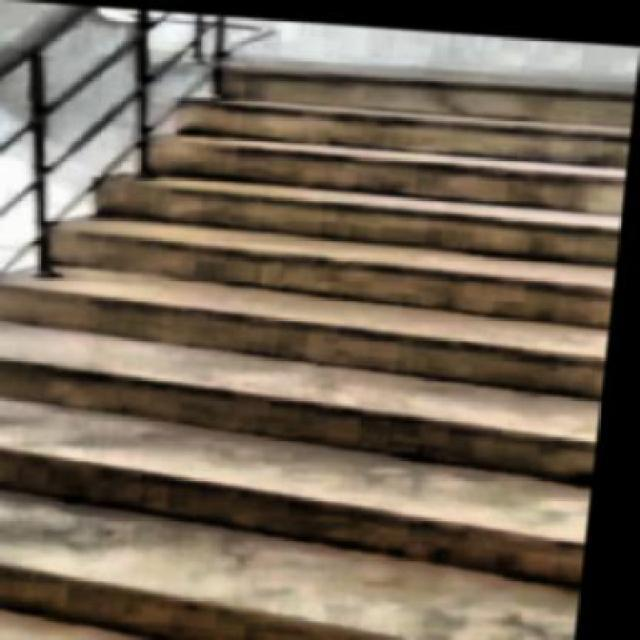stair: (0, 35, 635, 638)
